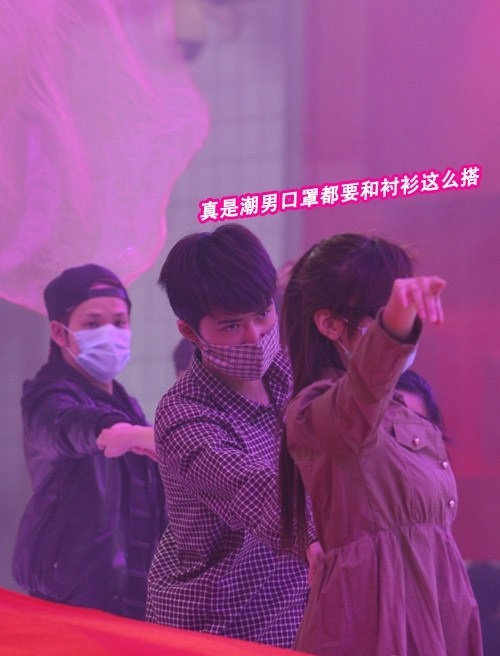face_mask: (199, 282, 274, 388), (67, 288, 130, 377)
